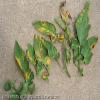Potato leaf early blight: (77, 1, 98, 63), (13, 40, 33, 82), (32, 20, 59, 44), (33, 35, 47, 66)
